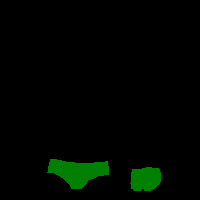mutande: (47, 158, 109, 189), (130, 167, 161, 191)
